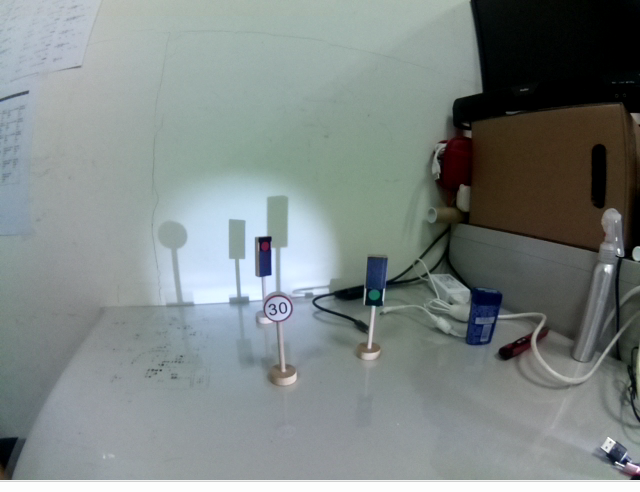Green: (362, 251, 389, 313)
Red: (249, 233, 275, 282)
Speed30: (262, 290, 295, 323)
